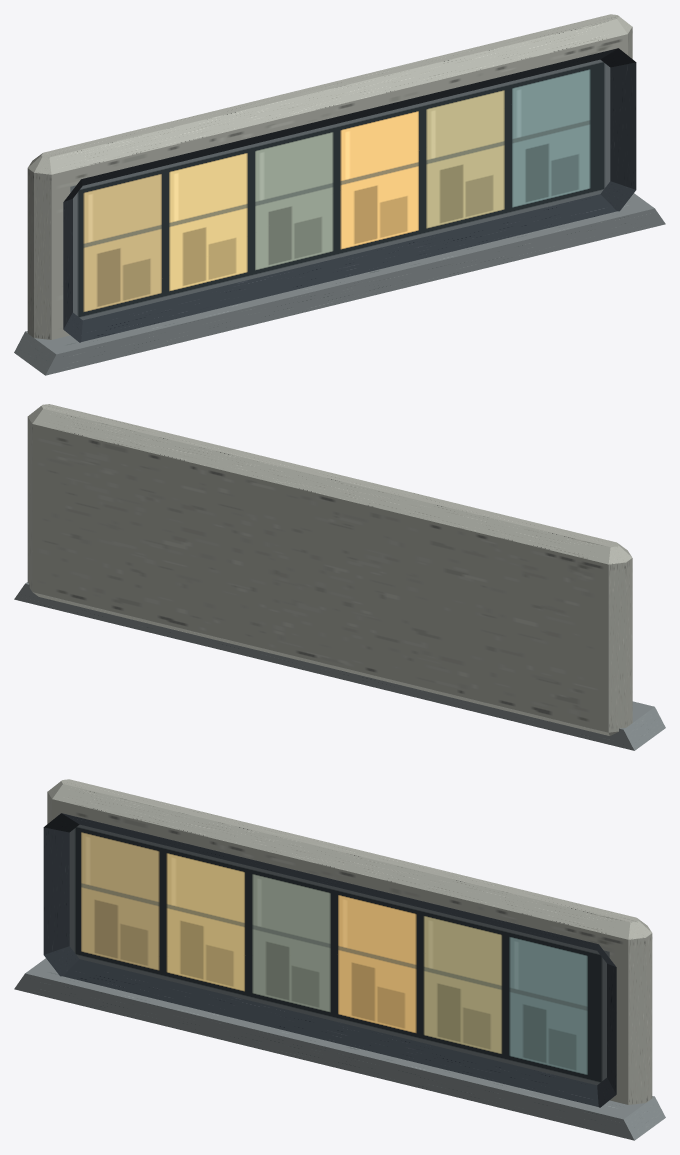
The model's file is WindowBand.fbx.
3 renders of one model, top to bottom at view 1: azimuth 30°, elevation 25°; view 2: azimuth 150°, elevation 25°; view 3: azimuth 330°, elevation 25°, orthographic.
Visible parts, largest first — view 1: WindowBand; view 2: WindowBand; view 3: WindowBand.
Boxes of the visible parts, <box> form: WindowBand: <box>14,14,665,375</box>; WindowBand: <box>14,404,665,750</box>; WindowBand: <box>14,779,665,1140</box>.
Bounding box in the file's own units: 560 × 168 × 55.
